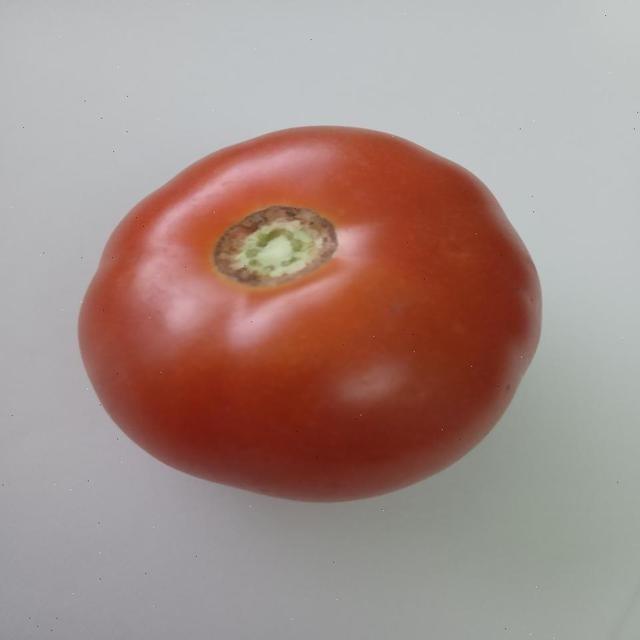Healthy Fruit: (44, 74, 373, 339)
